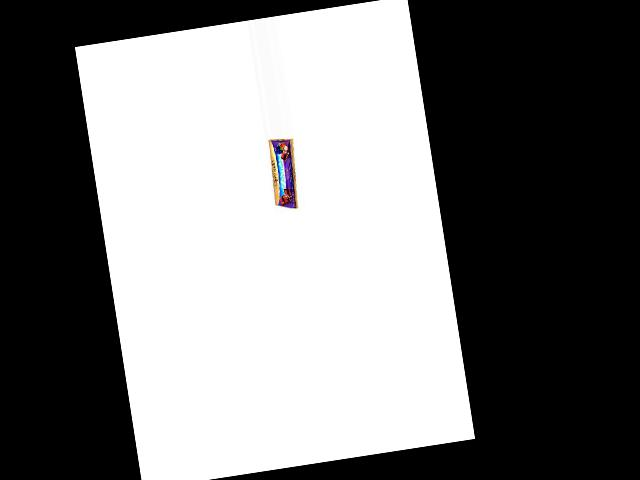chocolate: (268, 136, 304, 214)
